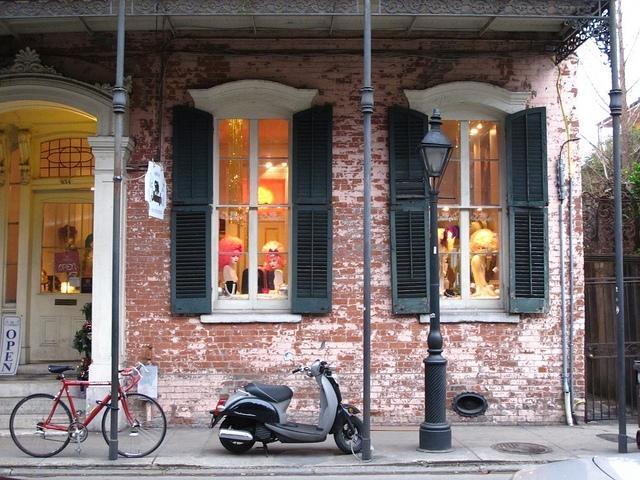bicycle: (8, 360, 168, 458)
motorcycle: (206, 340, 364, 460)
